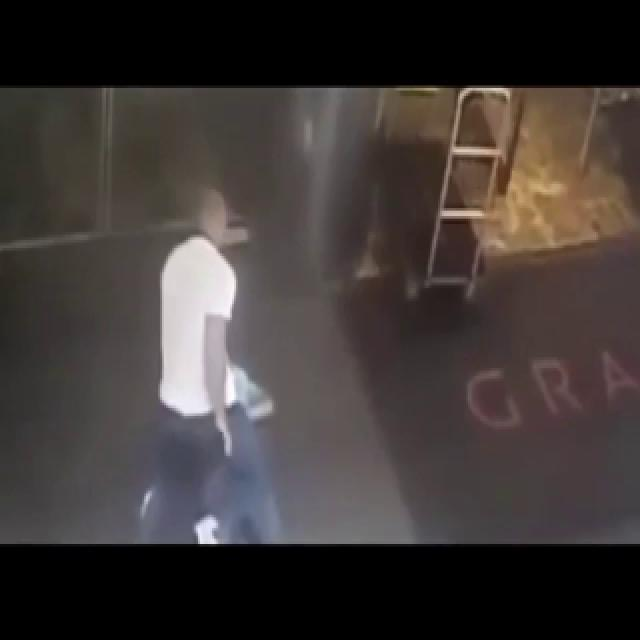arrest: (134, 118, 292, 566)
